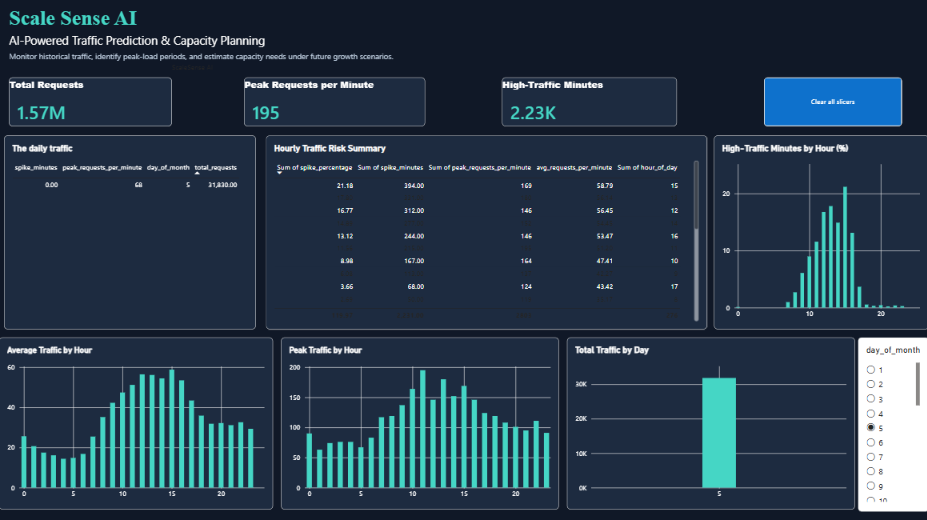

What the dashboard file says about the page in this screenshot:
{"tool":"powerbi","page":{"name":"Page 1","canvas":[1920,1080],"ordinal":0},"visuals":[{"type":"clusteredColumnChart","title":"Average Traffic by Hour","fields":{"Category":["scalesense_ai powerbi_traffic_summary.hour_of_day"],"Y":["Avg(scalesense_ai powerbi_traffic_summary.avg_requests_per_minute)"]},"box":[6.2,697.8,564,354],"z":0},{"type":"clusteredColumnChart","title":"Peak Traffic by Hour","fields":{"Category":["scalesense_ai powerbi_traffic_summary.hour_of_day"],"Y":["Sum(scalesense_ai powerbi_traffic_summary.peak_requests_per_minute)"]},"box":[586.6,697.8,572.2,354],"z":1},{"type":"cardVisual","title":"Total Requests","fields":{"Data":["Sum(scalesense_ai powerbi_traffic_summary.total_requests)"]},"box":[26.8,162.6,335.5,100.9],"z":2},{"type":"cardVisual","title":"Peak Requests per Minute","fields":{"Data":["Max(scalesense_ai powerbi_traffic_summary.peak_requests_per_minute)"]},"box":[510.5,162.6,372.6,100.9],"z":3},{"type":"cardVisual","title":"High-Traffic Minutes","fields":{"Data":["Sum(scalesense_ai powerbi_traffic_summary.spike_minutes)"]},"box":[1041.5,162.6,360.2,100.9],"z":4},{"type":"clusteredColumnChart","title":"High-Traffic Minutes by Hour (%)","fields":{"Category":["scalesense_ai powerbi_traffic_summary.hour_of_day"],"Y":["Avg(scalesense_ai powerbi_traffic_summary.spike_percentage)"]},"box":[1477.9,282,442.5,399.3],"z":5},{"type":"clusteredColumnChart","title":"Total Traffic by Day","fields":{"Category":["scalesense_ai daily_traffic_summary.day_of_month"],"Y":["Sum(scalesense_ai daily_traffic_summary.total_requests)"]},"box":[1175.3,697.8,592.8,354],"z":6},{"type":"tableEx","title":"The daily traffic ","fields":{"Values":["scalesense_ai daily_traffic_summary.spike_minutes","scalesense_ai daily_traffic_summary.peak_requests_per_minute","scalesense_ai daily_traffic_summary.day_of_month","scalesense_ai daily_traffic_summary.total_requests"]},"box":[16.5,282,518.7,399.3],"z":8},{"type":"listSlicer","fields":{"Values":["scalesense_ai daily_traffic_summary.day_of_month"]},"box":[1774.3,693.7,146.1,358.1],"z":9},{"type":"actionButton","box":[1580.8,162.6,284,100.9],"z":10},{"type":"tableEx","title":"Hourly Traffic Risk Summary","fields":{"Values":["Sum(scalesense_ai powerbi_traffic_summary.spike_percentage)","Sum(scalesense_ai powerbi_traffic_summary.spike_minutes)","Sum(scalesense_ai powerbi_traffic_summary.peak_requests_per_minute)","scalesense_ai powerbi_traffic_summary.avg_requests_per_minute","Sum(scalesense_ai powerbi_traffic_summary.hour_of_day)"]},"box":[555.7,282,907.7,399.3],"z":11},{"type":"textbox","box":[363,132,193,150],"z":12},{"type":"textbox","box":[26.8,14.4,1014.8,55.6],"z":13},{"type":"textbox","box":[26.8,70,1613.7,37],"z":14},{"type":"textbox","box":[26.8,107,1869,43.2],"z":15}]}

Visuals, with their boxes in screenshot pixels (x1, y1, x2, y2), scaled from the page's 1920x1080 canvas onto the 927x520 screenshot:
"Average Traffic by Hour" clusteredColumnChart: bbox=(3, 336, 275, 506)
"Peak Traffic by Hour" clusteredColumnChart: bbox=(283, 336, 559, 506)
"Total Requests" cardVisual: bbox=(13, 78, 175, 127)
"Peak Requests per Minute" cardVisual: bbox=(246, 78, 426, 127)
"High-Traffic Minutes" cardVisual: bbox=(503, 78, 677, 127)
"High-Traffic Minutes by Hour (%)" clusteredColumnChart: bbox=(714, 136, 926, 328)
"Total Traffic by Day" clusteredColumnChart: bbox=(567, 336, 854, 506)
"The daily traffic " tableEx: bbox=(8, 136, 258, 328)
listSlicer - scalesense_ai daily_traffic_summary.day_of_month: bbox=(857, 334, 926, 506)
actionButton: bbox=(763, 78, 900, 127)
"Hourly Traffic Risk Summary" tableEx: bbox=(268, 136, 707, 328)
textbox: bbox=(175, 64, 268, 136)
textbox: bbox=(13, 7, 503, 34)
textbox: bbox=(13, 34, 792, 52)
textbox: bbox=(13, 52, 915, 72)
